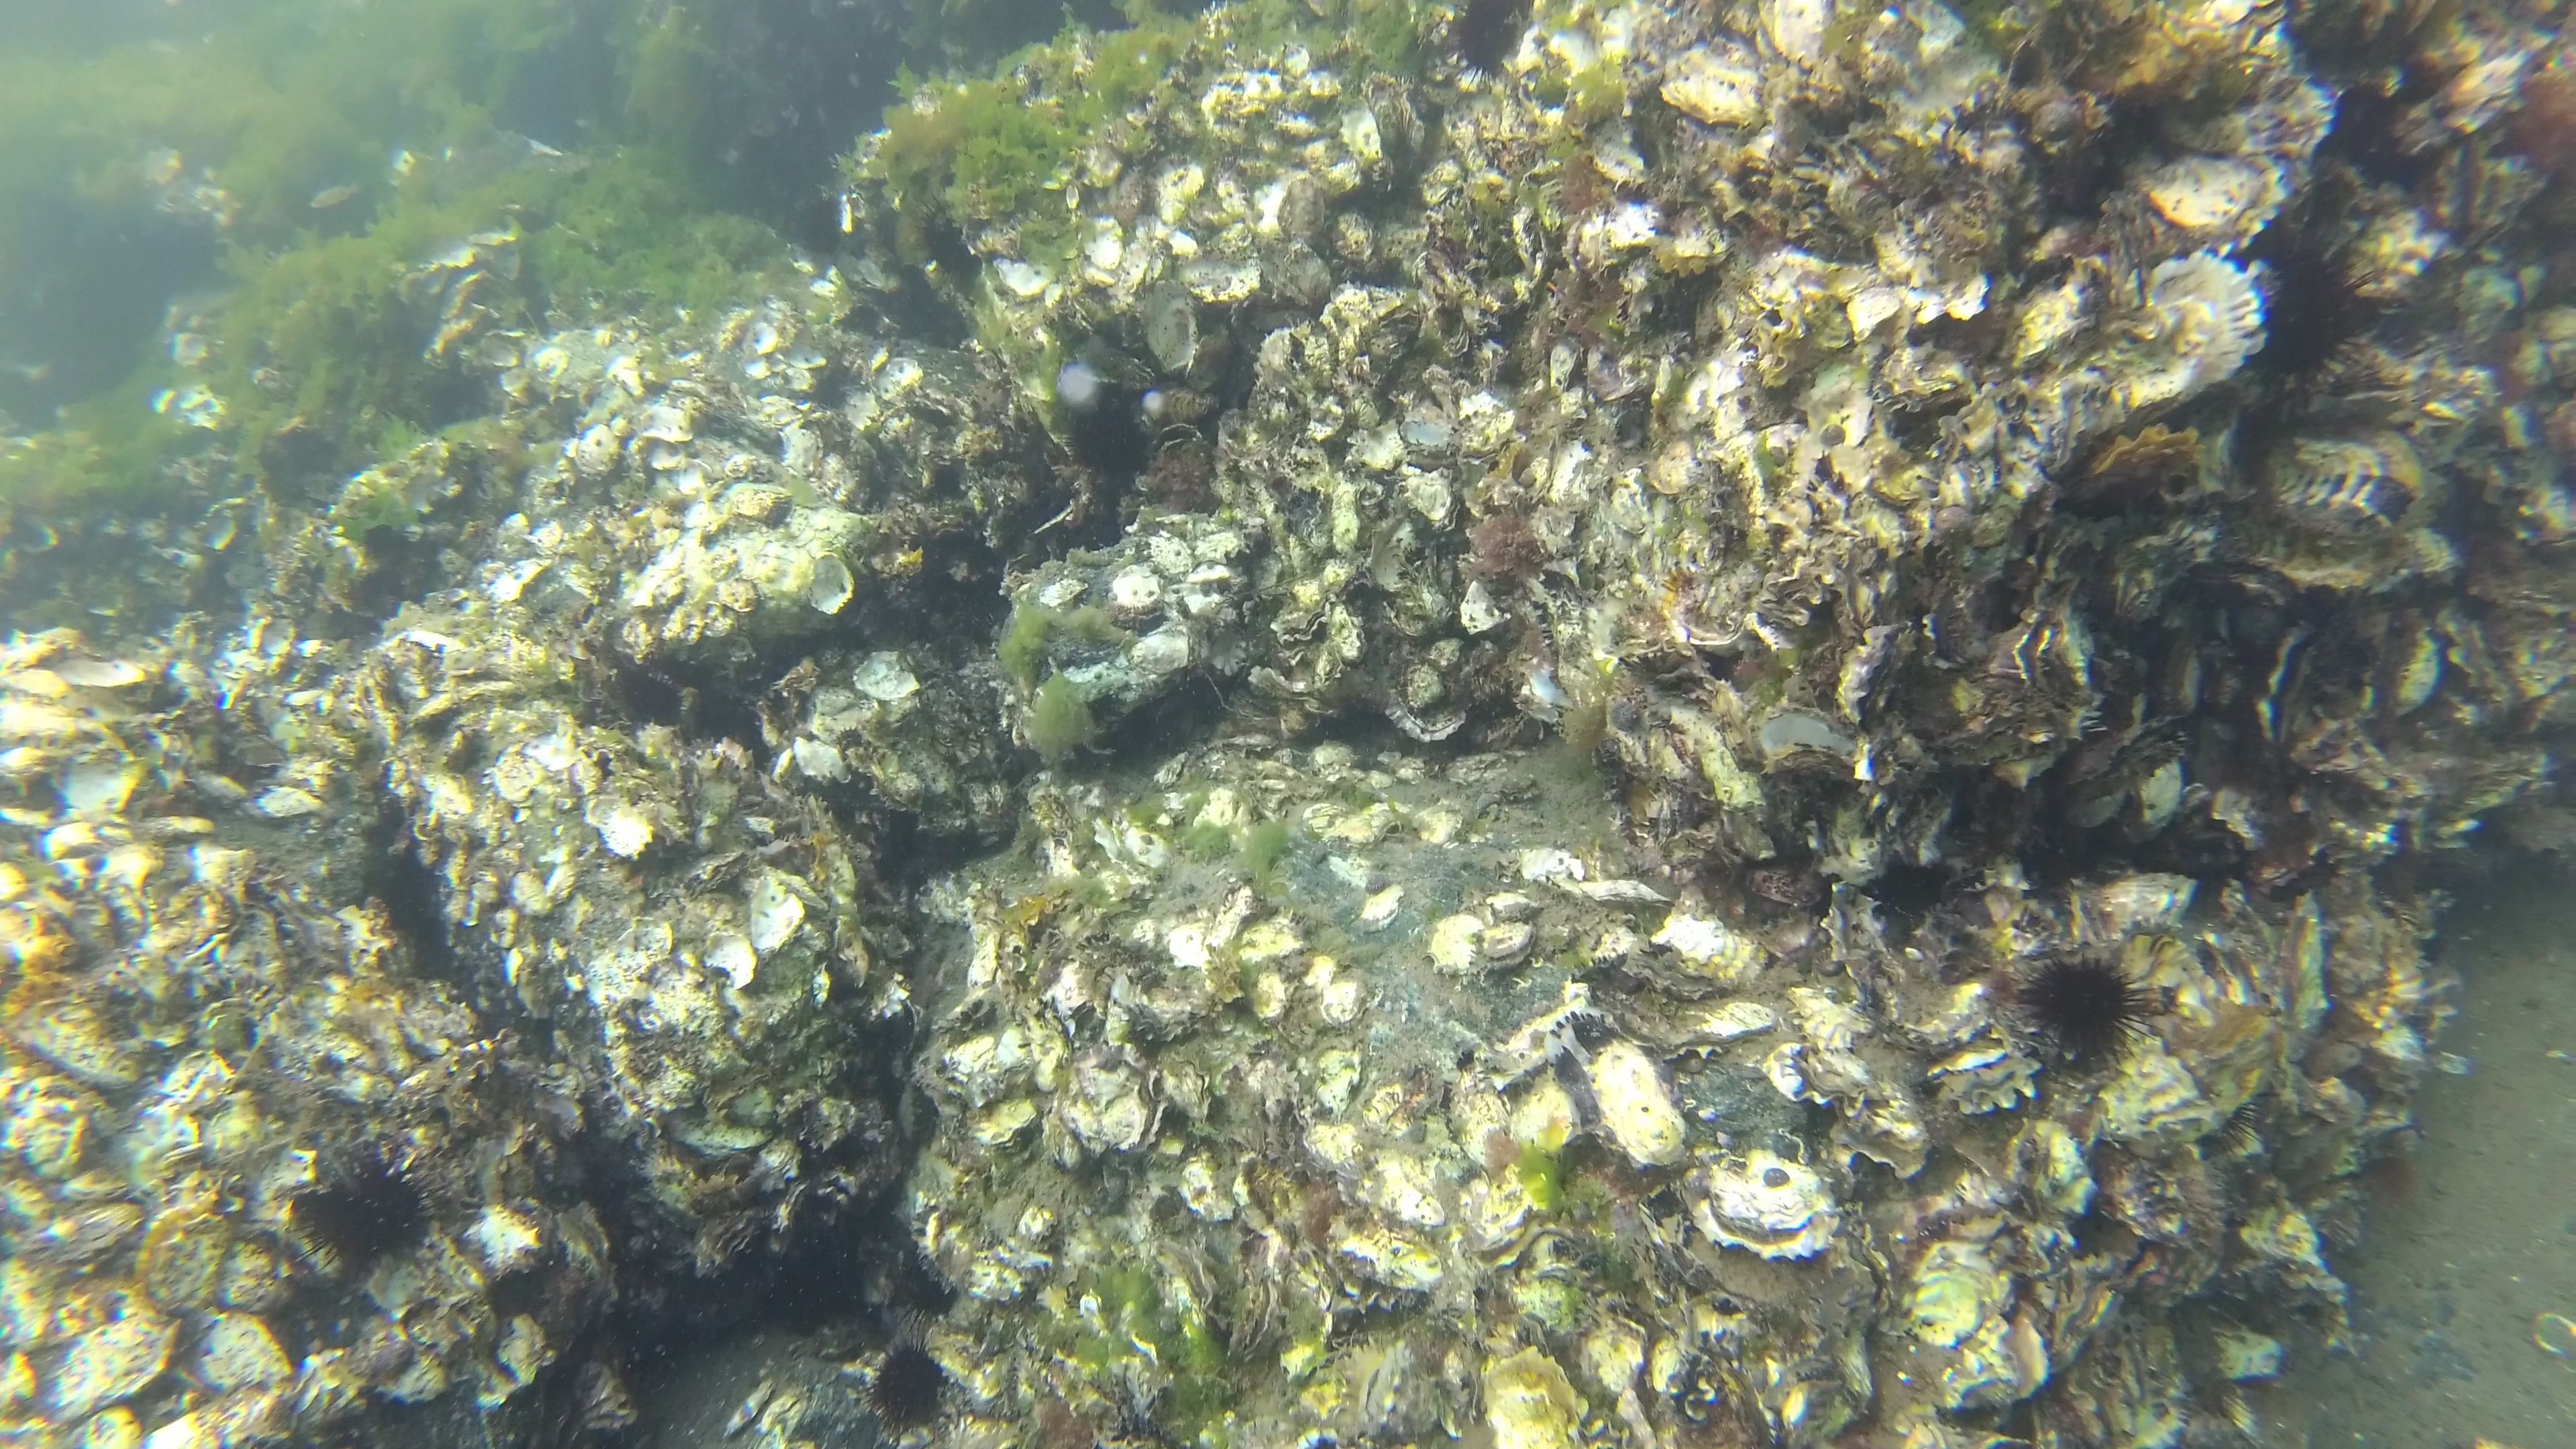echinus: (2012, 936, 2155, 1067), (856, 1327, 966, 1435), (315, 1143, 425, 1249), (904, 189, 993, 290), (1444, 2, 1543, 87), (878, 1244, 970, 1329)
